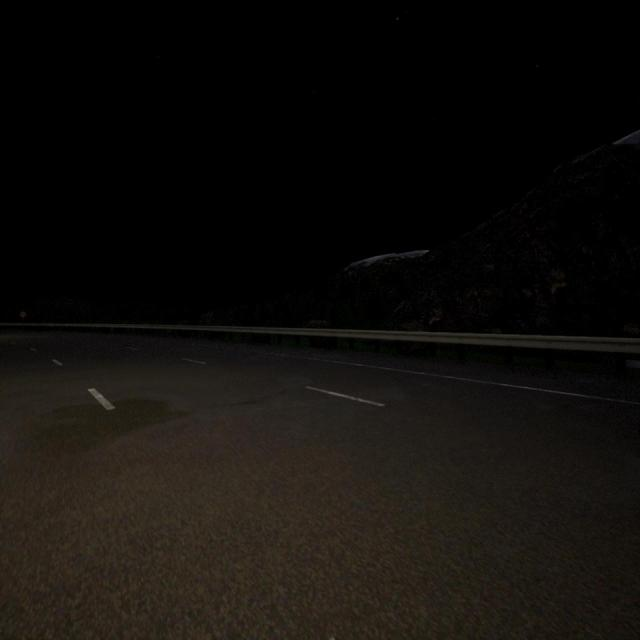Traffic_Signs: (18, 309, 28, 320)
